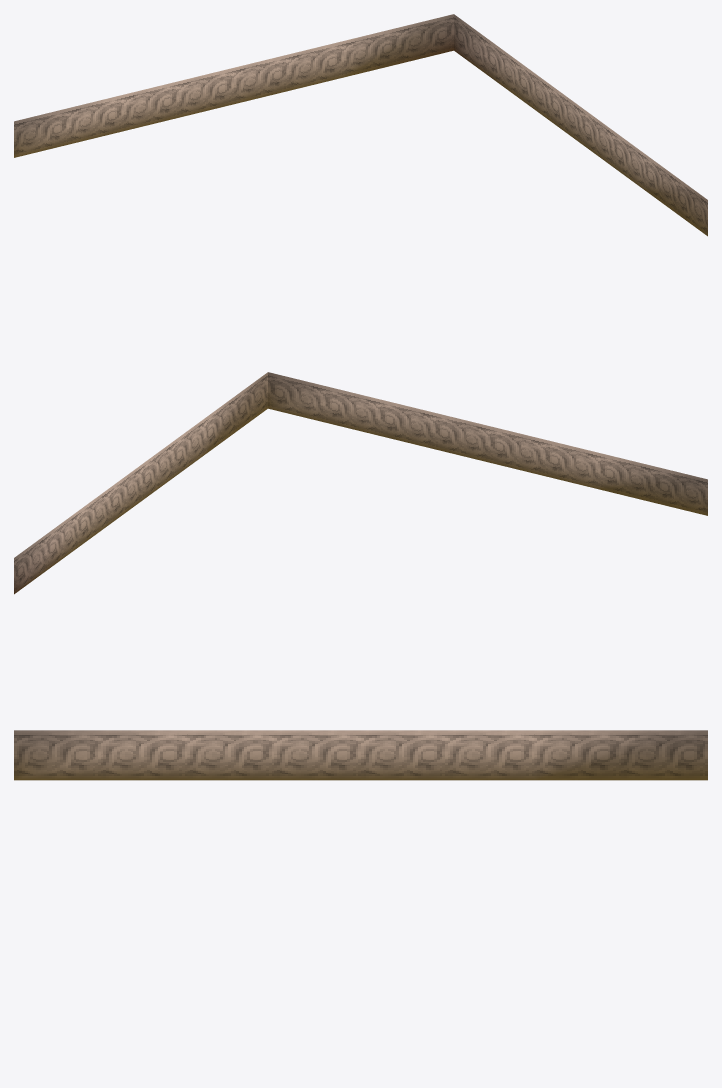
3 views of the same model, one above another, from view 1: azimuth 30°, elevation 25°; view 2: azimuth 150°, elevation 25°; view 3: azimuth 270°, elevation 25° (orthographic). The views are drawn at different scales.
Visible parts, largest first — view 1: Plane; view 2: Plane; view 3: Plane.
Boxes of the visible parts, box(x1,y1,x2,y2) form: Plane: box(14, 14, 707, 236); Plane: box(14, 372, 707, 594); Plane: box(14, 730, 707, 780).
Size of what is drawn, in the model's own units: 16 by 1.27 by 16.
Materials: 1 (1 with a texture image).
